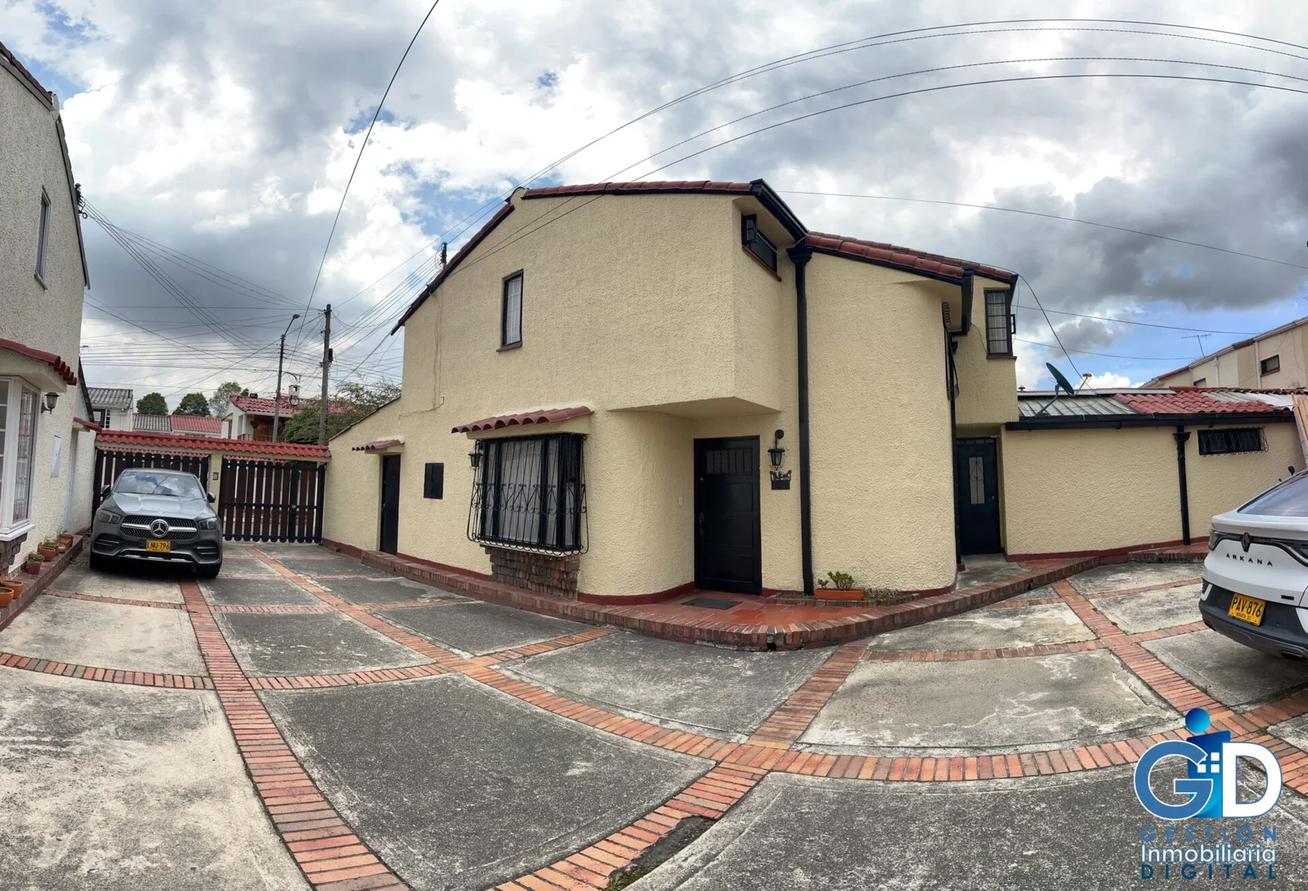House: (277, 200, 1280, 649)
